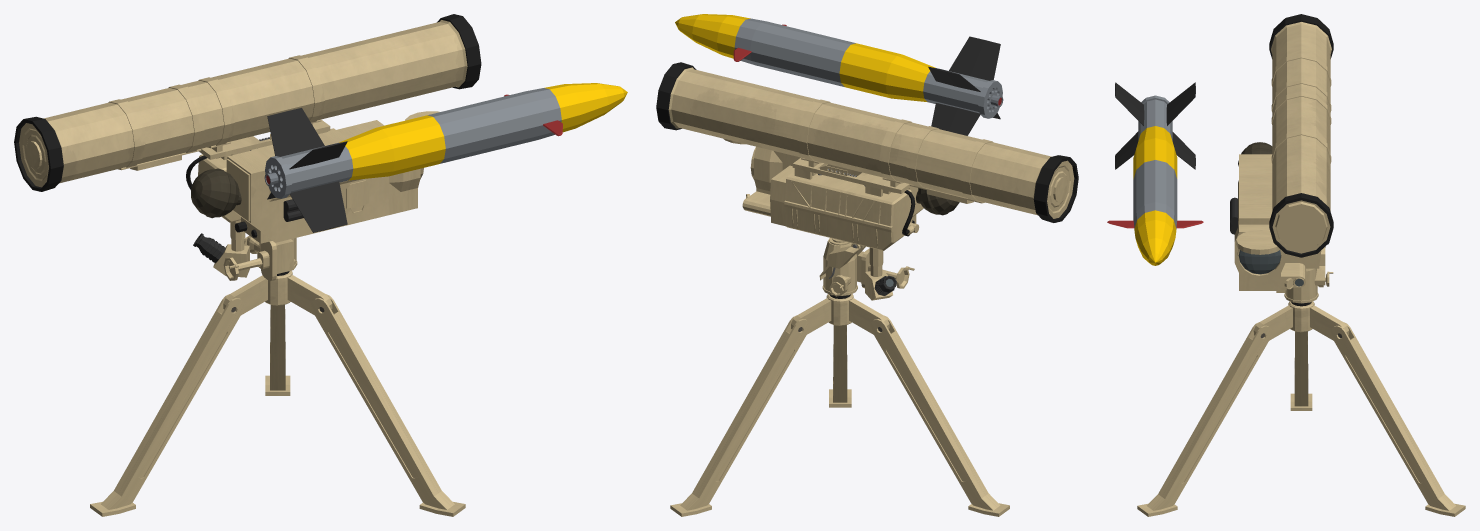
The picture shows the model from 3 angles, left to right: view 1: azimuth 30°, elevation 25°; view 2: azimuth 150°, elevation 25°; view 3: azimuth 270°, elevation 25°; orthographic projection. The views are drawn at different scales.
Visible parts, largest first — view 1: Turret_8, Turret_4, object 4, Turret_6; view 2: Turret_8, Turret_4, Turret_6, object 4; view 3: Turret_8, object 4, Turret_4, Turret_6.
Part boxes in pixels (x1,y1,x2,y2): Turret_8: (14,14,481,191); Turret_4: (264,83,627,232); object 4: (90,270,465,516); Turret_6: (186,111,439,280); Turret_8: (656,62,1078,222); Turret_4: (675,14,1003,135); Turret_6: (723,138,959,300); object 4: (670,294,1009,516); Turret_8: (1269,14,1333,257); object 4: (1137,301,1465,516); Turret_4: (1107,82,1203,265); Turret_6: (1230,142,1333,306).
Size of the model in its own units: 9.31 by 7.22 by 6.46.
Materials: 2 (2 with a texture image).
